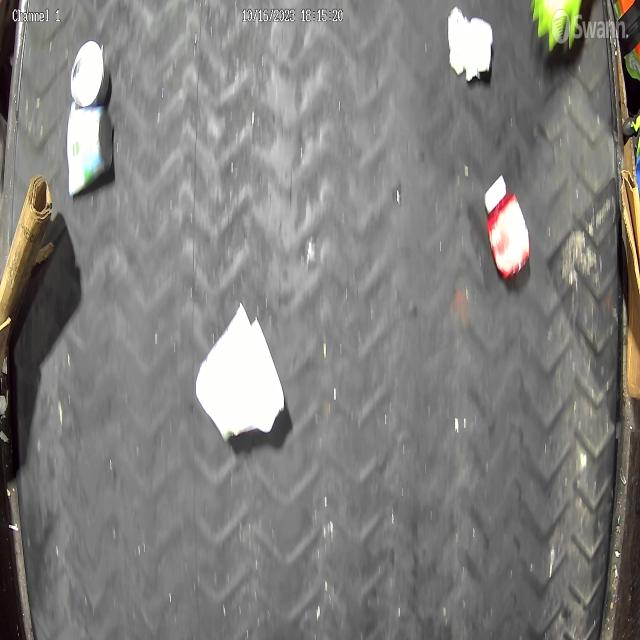can: (67, 109, 114, 198), (71, 38, 110, 110)
